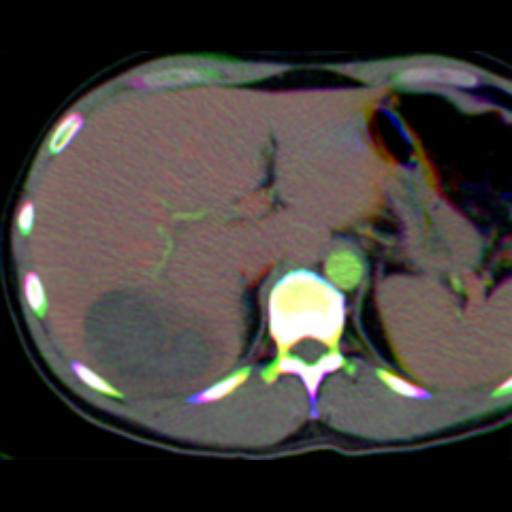Abscess: (84, 291, 214, 386)
